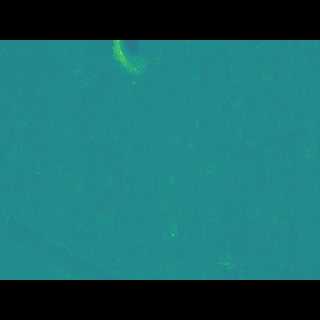Loch: (0, 199, 135, 250), (104, 68, 152, 101)
